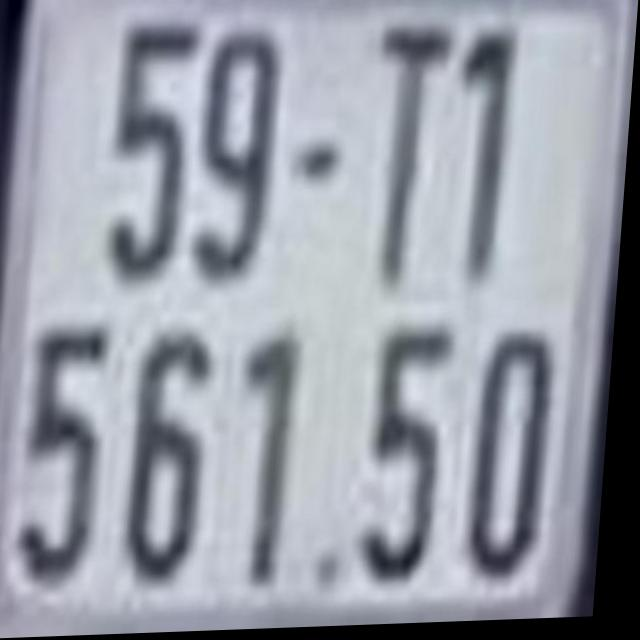0: (477, 334, 559, 582)
1: (454, 20, 523, 274), (234, 340, 303, 582)
5: (22, 318, 127, 587), (367, 327, 455, 583), (106, 25, 195, 276)
6: (132, 332, 225, 579)
9: (195, 31, 279, 276)
T: (369, 27, 451, 285)
